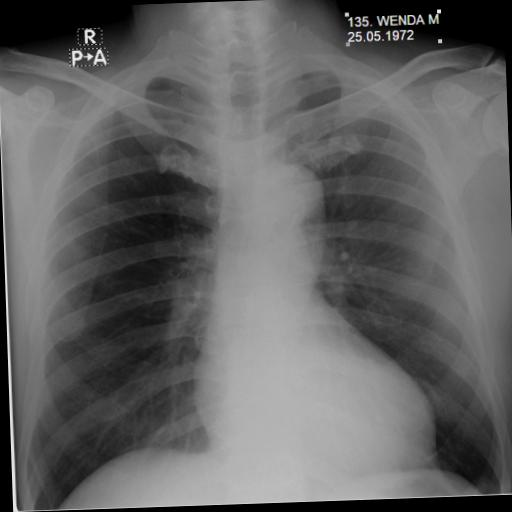kardiomegali: (9, 31, 512, 512)
